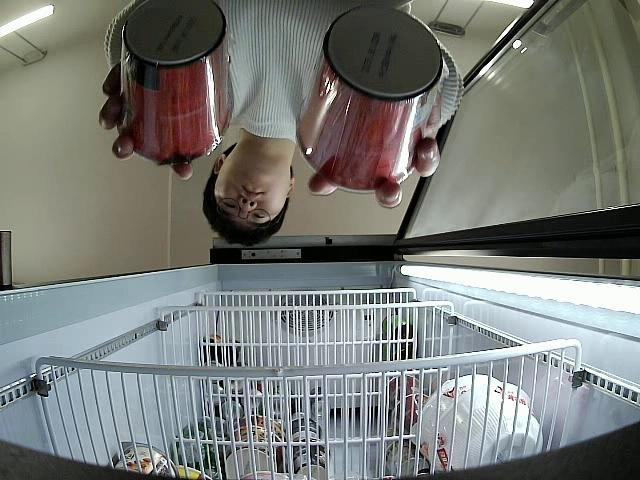02_shinRamen_S: (295, 6, 444, 193), (116, 0, 236, 165)
